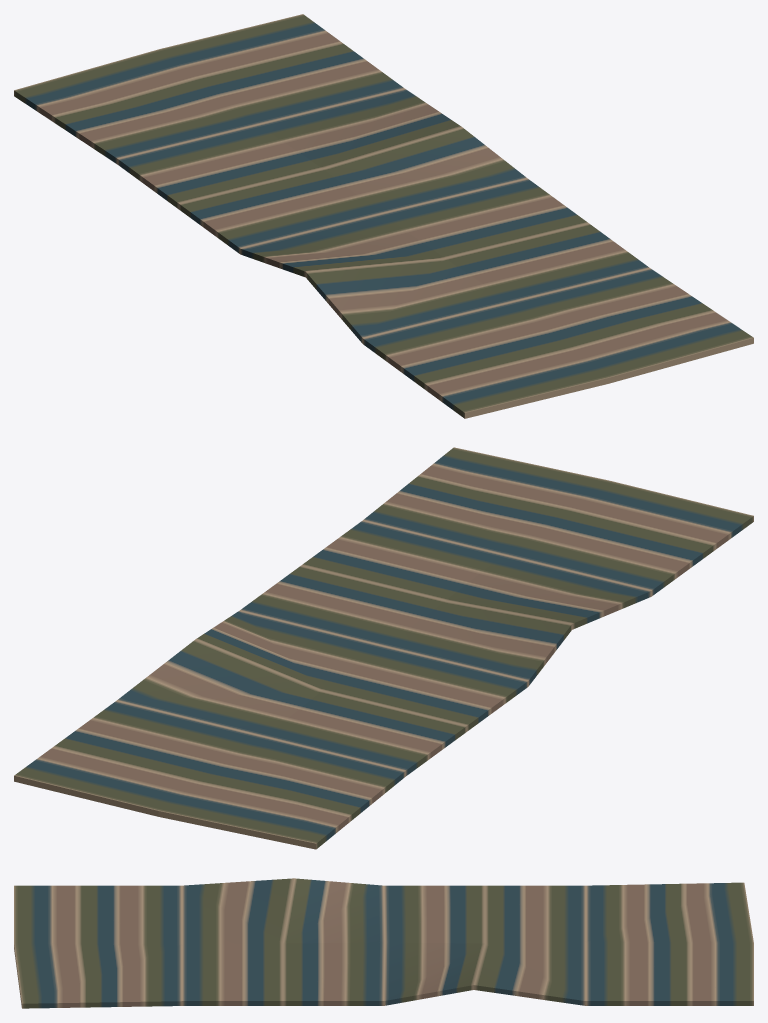
File: SM_Prop_Rug_31.fbx
3 renders of one model, top to bottom at view 1: azimuth 30°, elevation 25°; view 2: azimuth 150°, elevation 25°; view 3: azimuth 270°, elevation 25°, orthographic. The views are drawn at different scales.
Parts seen in each view (by area): view 1: SM_Prop_Rug_31; view 2: SM_Prop_Rug_31; view 3: SM_Prop_Rug_31.
Part boxes in pixels (<box>): SM_Prop_Rug_31: <box>14,14,753,418</box>; SM_Prop_Rug_31: <box>14,447,753,849</box>; SM_Prop_Rug_31: <box>14,878,753,1008</box>.
Size of the model in its own units: 218 by 13.87 by 564.
